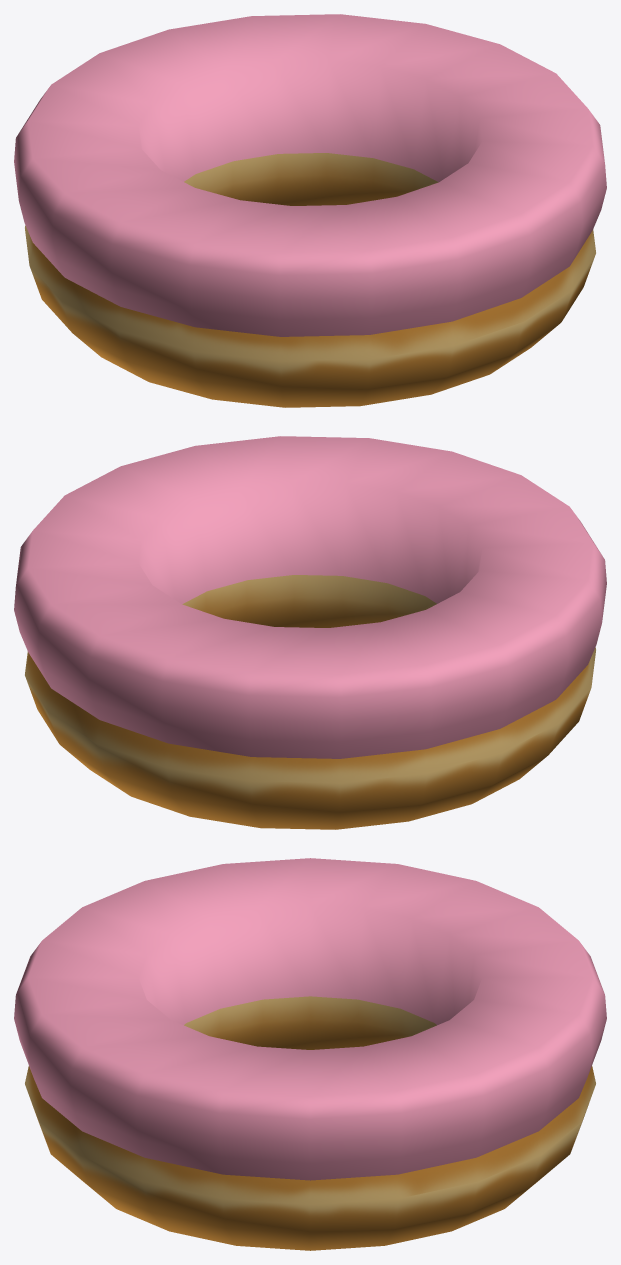
The model's file is donut 2.fbx.
3 renders of one model, top to bottom at view 1: azimuth 30°, elevation 25°; view 2: azimuth 150°, elevation 25°; view 3: azimuth 270°, elevation 25°, orthographic.
Parts seen in each view (by area): view 1: Donut_2; view 2: Donut_2; view 3: Donut_2.
Part boxes in pixels (x1,y1,x2,y2): Donut_2: [14, 14, 606, 407]; Donut_2: [14, 436, 606, 829]; Donut_2: [14, 858, 606, 1250].
Bounding box in the file's own units: 18.89 × 6.04 × 18.89.
Materials: 1 (1 with a texture image).
